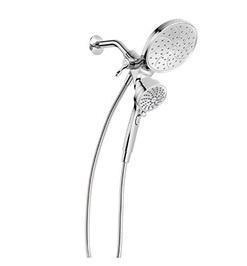Ducha: (77, 17, 198, 258)
